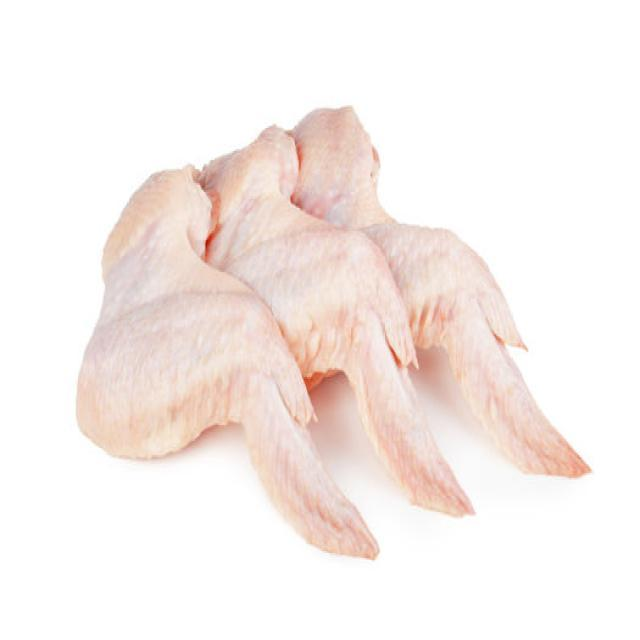wing: (97, 152, 366, 594), (304, 98, 580, 482), (204, 112, 452, 524)
